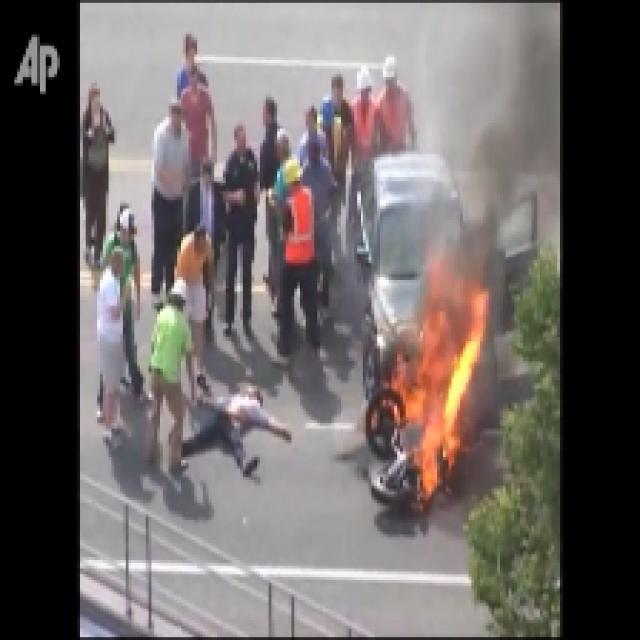Fire: (377, 262, 492, 498)
Smoke: (426, 3, 566, 266)
